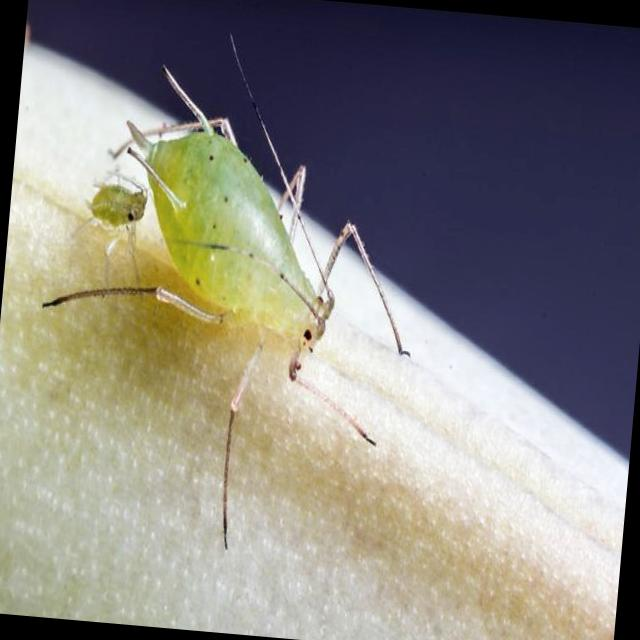aphid: (115, 61, 416, 487), (56, 150, 154, 283)
